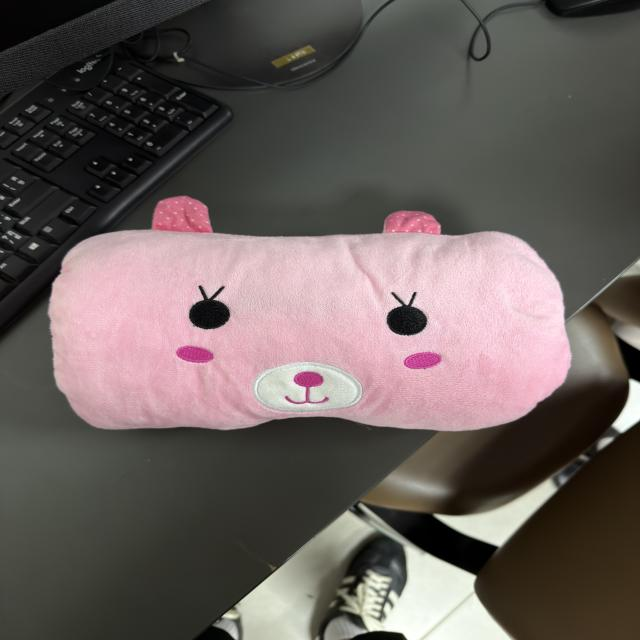pinkpillow: (50, 193, 574, 439)
